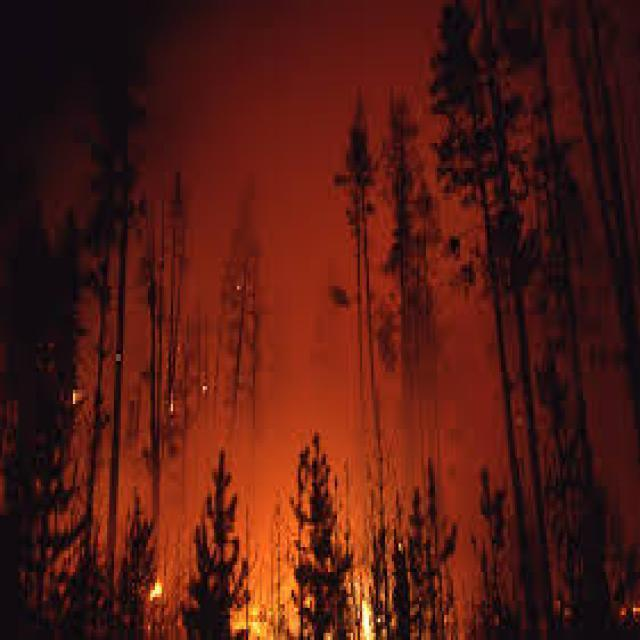Fire: (133, 4, 399, 640), (17, 161, 277, 620)
Smoke: (436, 322, 633, 552)
